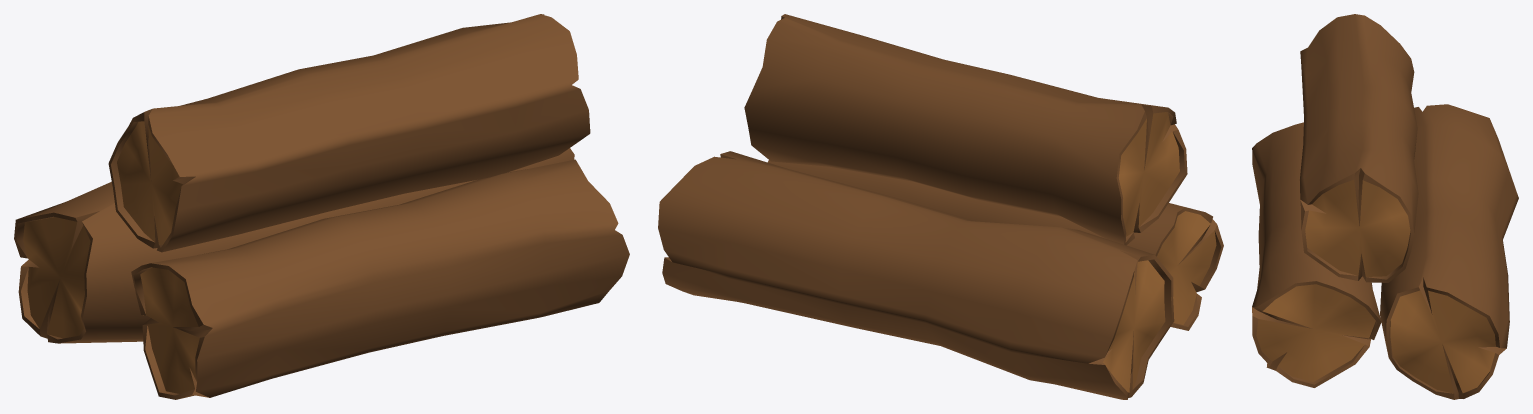
The model's file is Woods.fbx.
3 views of the same model, side by side, from view 1: azimuth 30°, elevation 25°; view 2: azimuth 150°, elevation 25°; view 3: azimuth 270°, elevation 25° (orthographic). The views are drawn at different scales.
Visible parts, largest first — view 1: Wood; view 2: Wood; view 3: Wood.
Boxes of the visible parts, x1=… form: Wood: x1=14, y1=14, x2=629, y2=399; Wood: x1=658, y1=14, x2=1223, y2=399; Wood: x1=1252, y1=14, x2=1518, y2=399.
Bounding box in the file's own units: 204 × 107 × 117.
